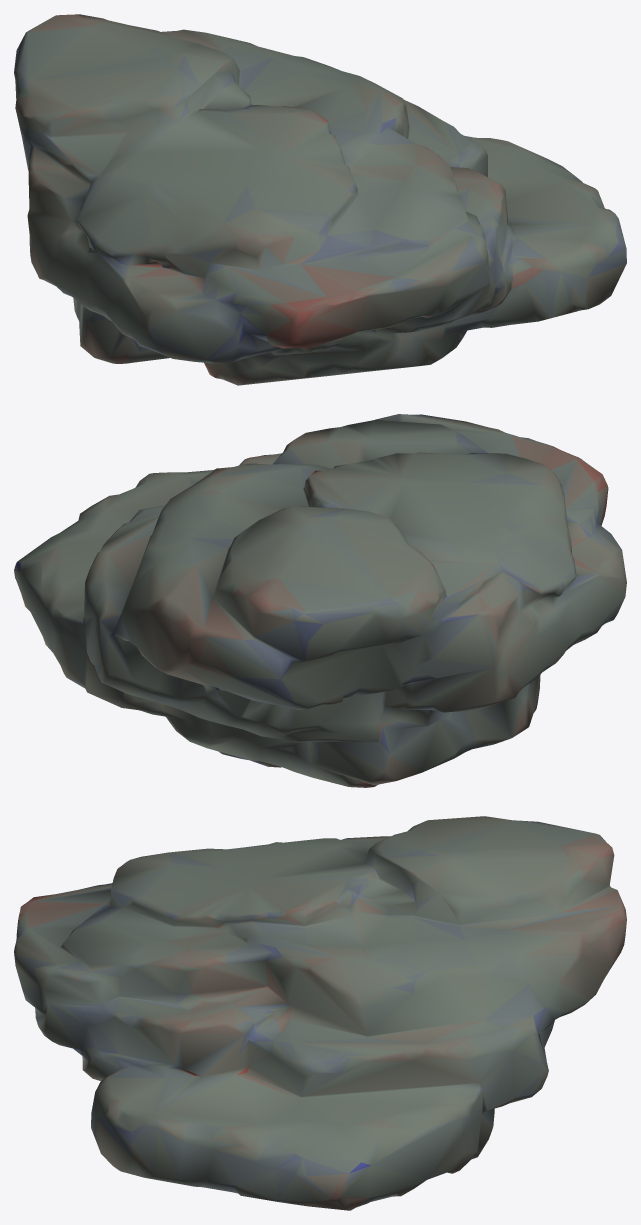
The model's file is rock_stack_01.fbx.
3 views of the same model, one above another, from view 1: azimuth 30°, elevation 25°; view 2: azimuth 150°, elevation 25°; view 3: azimuth 270°, elevation 25° (orthographic).
Parts seen in each view (by area): view 1: Rock_Stack_Large; view 2: Rock_Stack_Large; view 3: Rock_Stack_Large.
Boxes of the visible parts, x1,y1,x2,y2 form: Rock_Stack_Large: [14, 14, 626, 385]; Rock_Stack_Large: [14, 414, 626, 787]; Rock_Stack_Large: [14, 816, 626, 1210].
Size of the model in its own units: 956 by 488 by 991.
